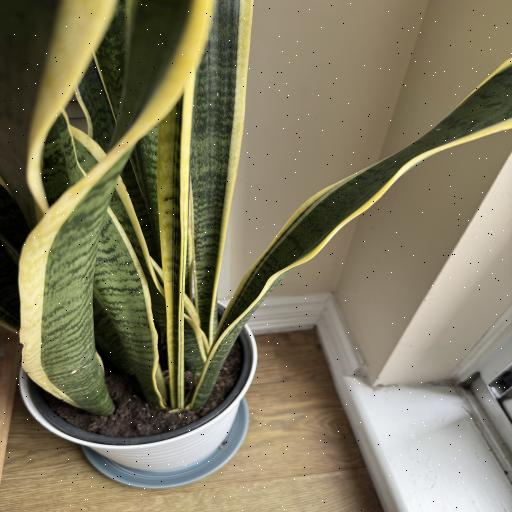Plant Pot: (17, 268, 263, 464)
